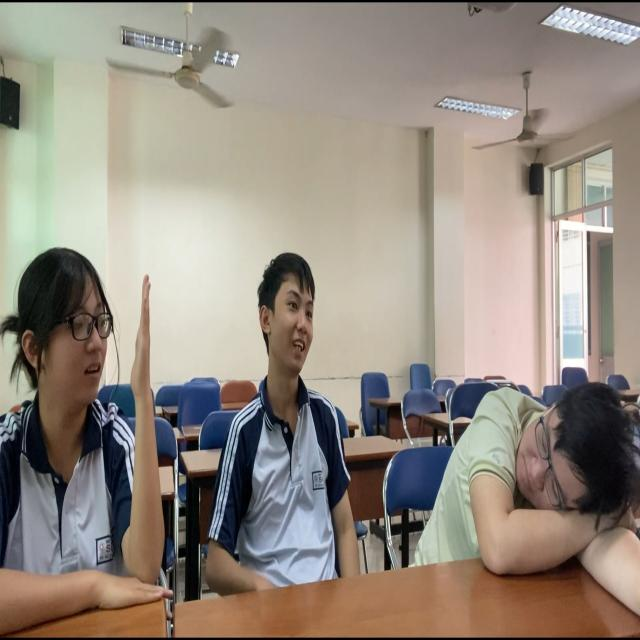raise_hand: (1, 211, 184, 640)
sleep: (380, 375, 640, 640)
